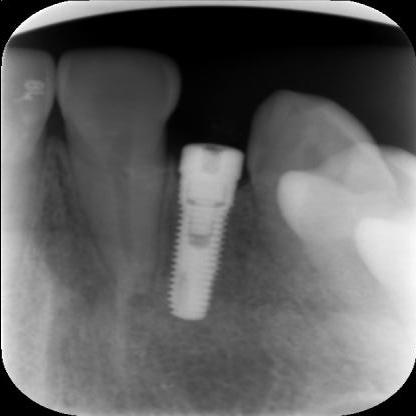Bego: (166, 143, 250, 323)
